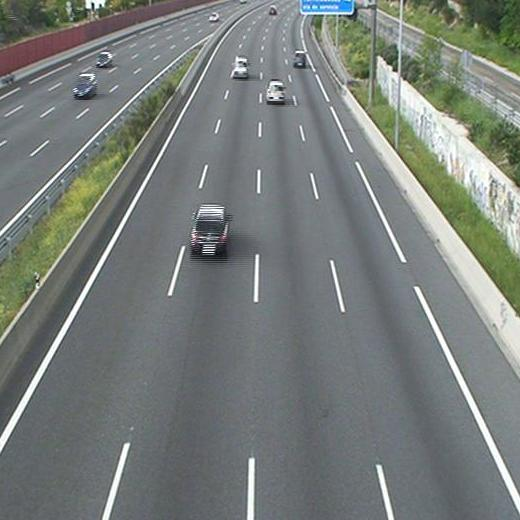car: (190, 206, 228, 253), (266, 81, 287, 103), (232, 58, 249, 77), (293, 52, 306, 68), (268, 6, 277, 13)
